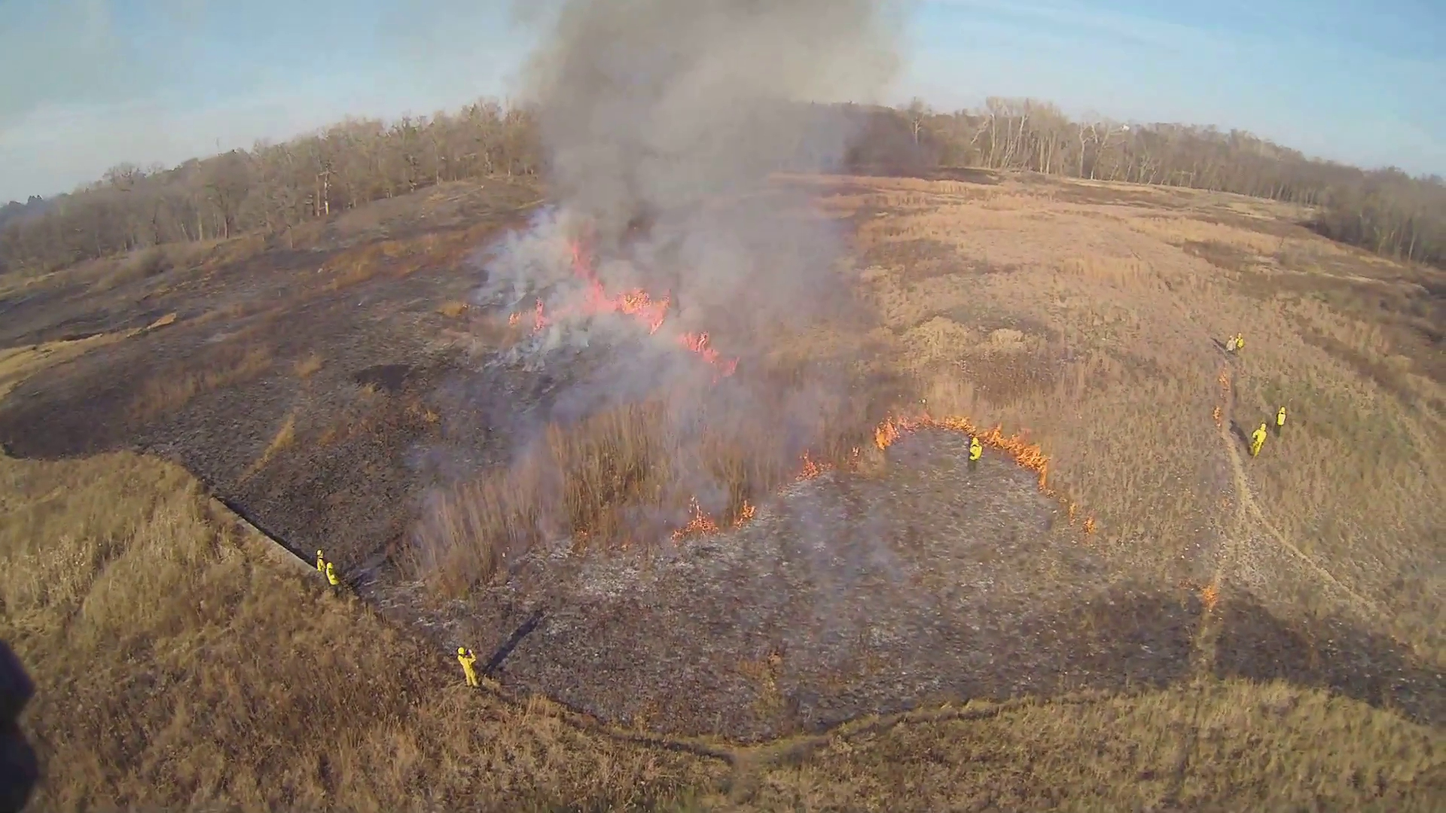forest_fire: (872, 415, 1048, 490), (532, 241, 669, 334), (676, 331, 737, 378), (675, 510, 715, 537), (798, 452, 833, 480), (737, 501, 753, 522)
